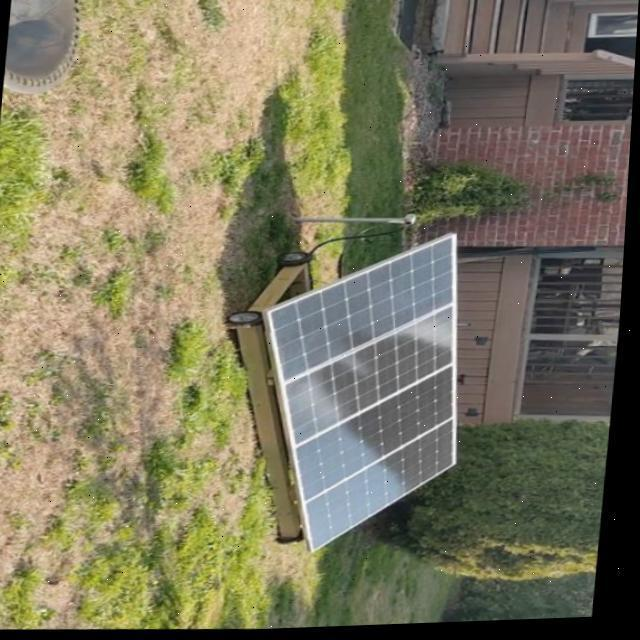Normal Solar Panel: (249, 230, 479, 561)
